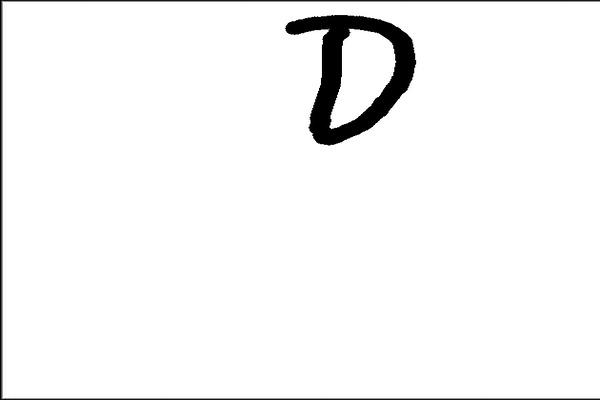D: (280, 8, 418, 149)
